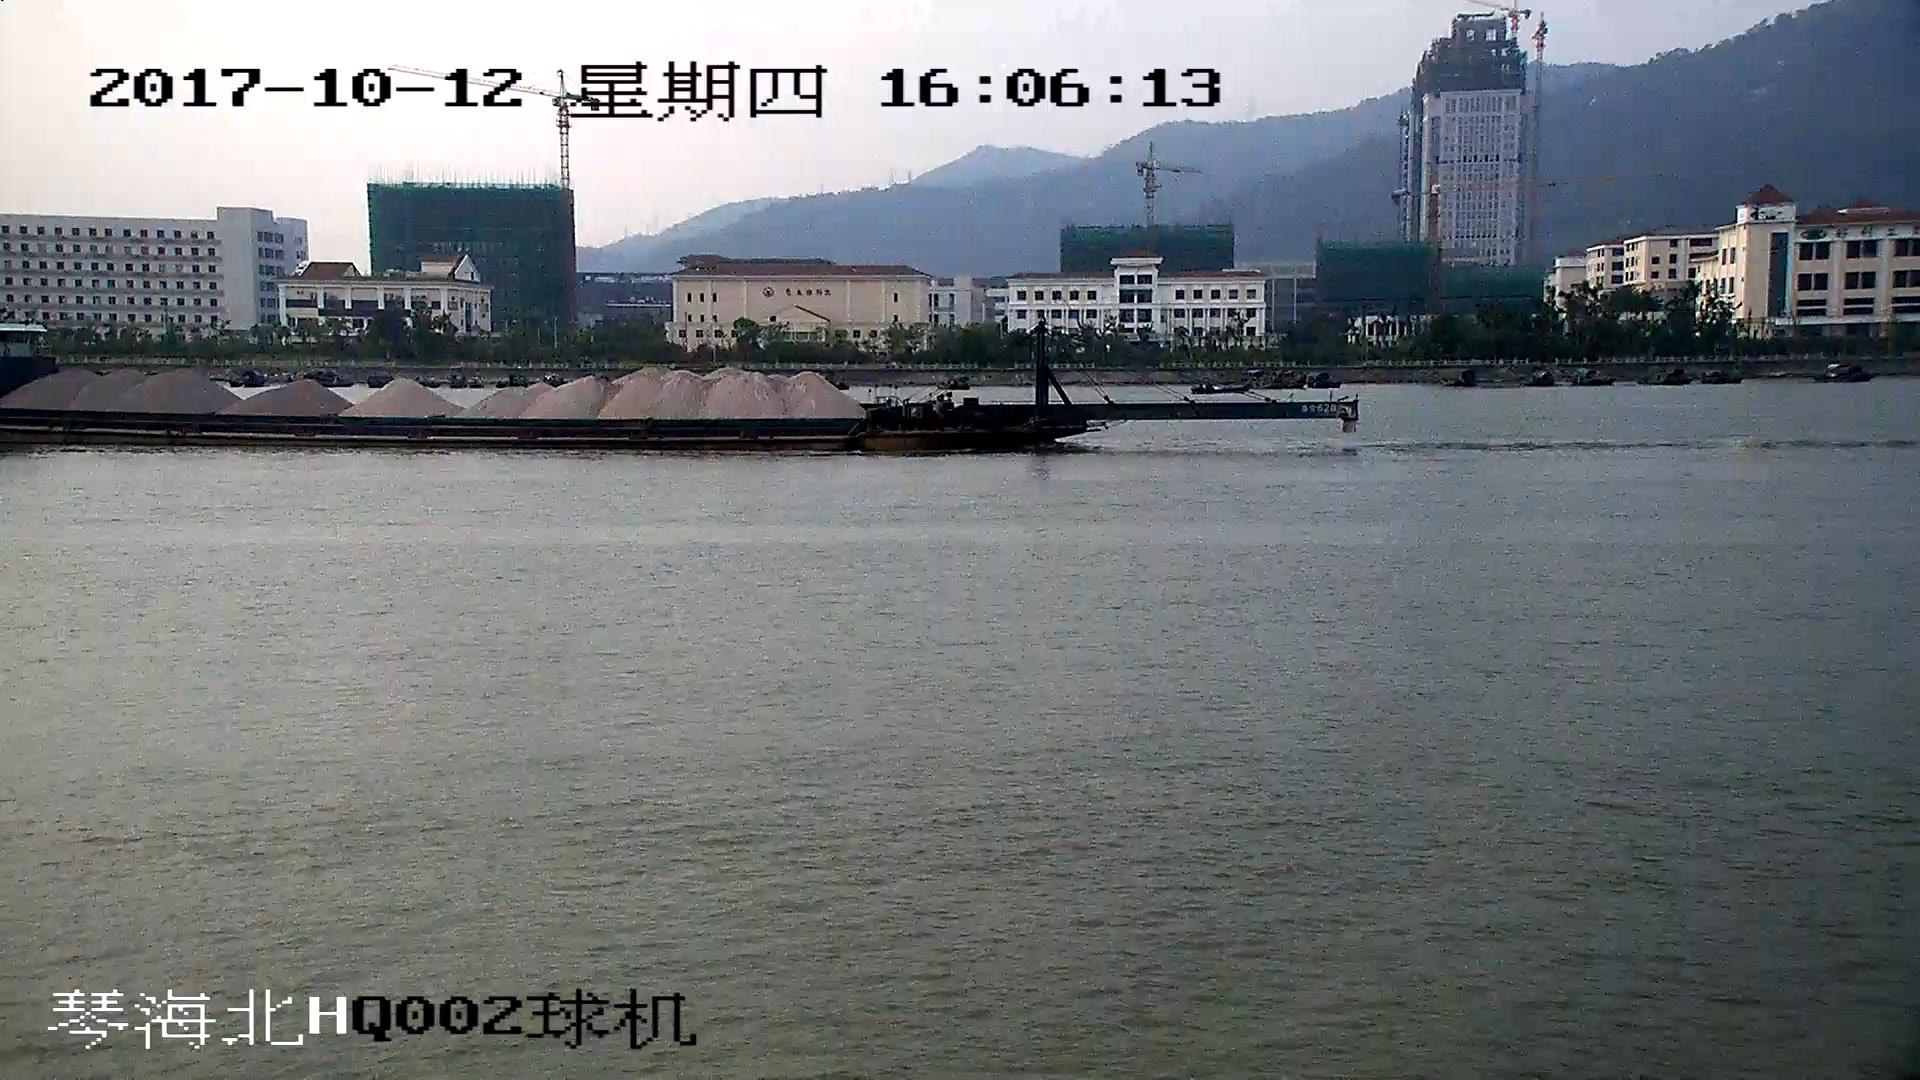ore carrier: (1, 319, 1356, 450)
